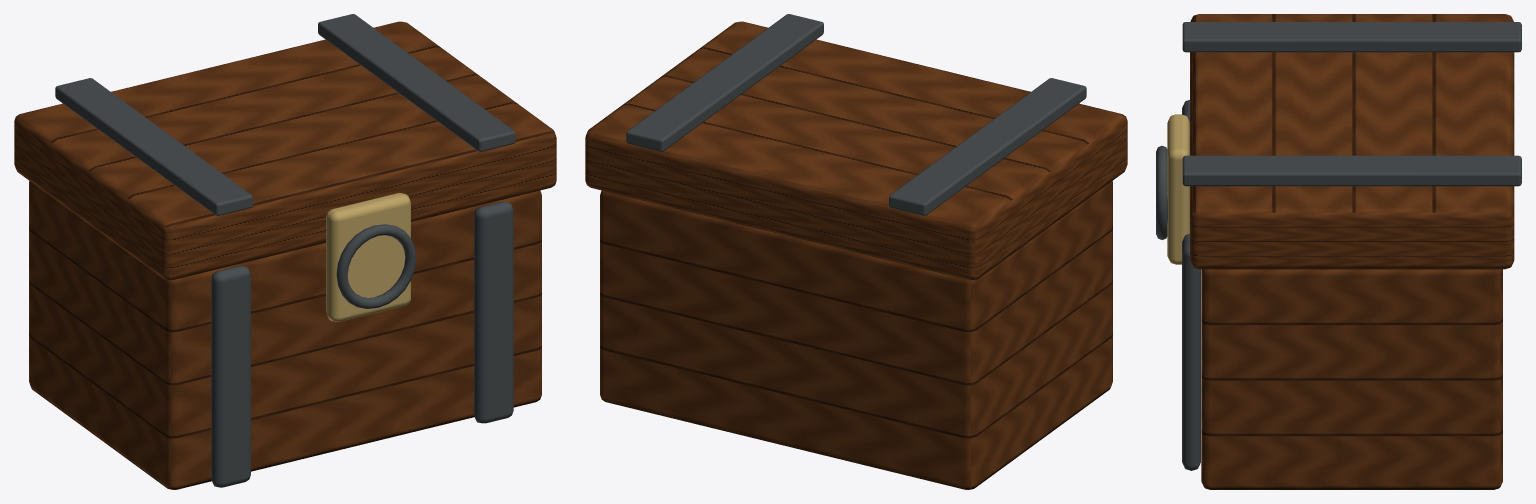
Rendered from undercity-sewers-and-thieves-den-den-strongbox-6888f8b1__27241.glb.
3 renders of one model, left to right at view 1: azimuth 30°, elevation 25°; view 2: azimuth 150°, elevation 25°; view 3: azimuth 270°, elevation 25°, orthographic. The views are drawn at different scales.
Parts seen in each view (by area): view 1: den-strongbox, lid (×2); view 2: den-strongbox, lid (×2); view 3: lid (×2), den-strongbox.
Part boxes in pixels (box(x1,y1,x2,y2)): den-strongbox: box(29, 181, 541, 489); lid (×2): box(14, 14, 556, 280); den-strongbox: box(600, 181, 1112, 489); lid (×2): box(585, 14, 1127, 280); lid (×2): box(1182, 14, 1521, 269); den-strongbox: box(1156, 100, 1502, 489).
Size of the model in its own units: 0.63 by 0.44 by 0.485.
3 materials, 1 textured.
